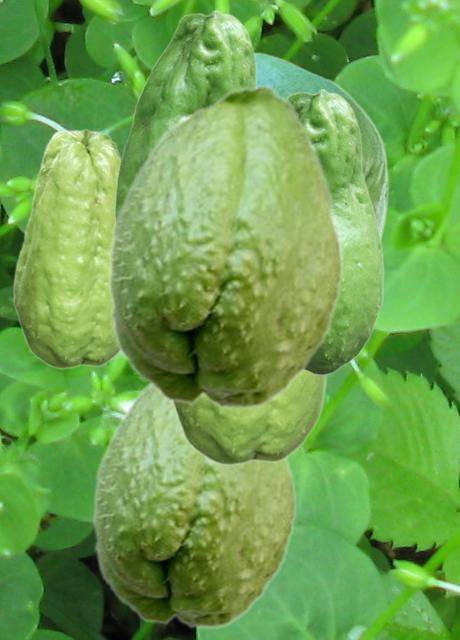sayote: (107, 82, 344, 410), (92, 385, 297, 629), (114, 9, 259, 215), (286, 88, 383, 374), (12, 128, 120, 369), (255, 52, 388, 239), (171, 372, 328, 466)
